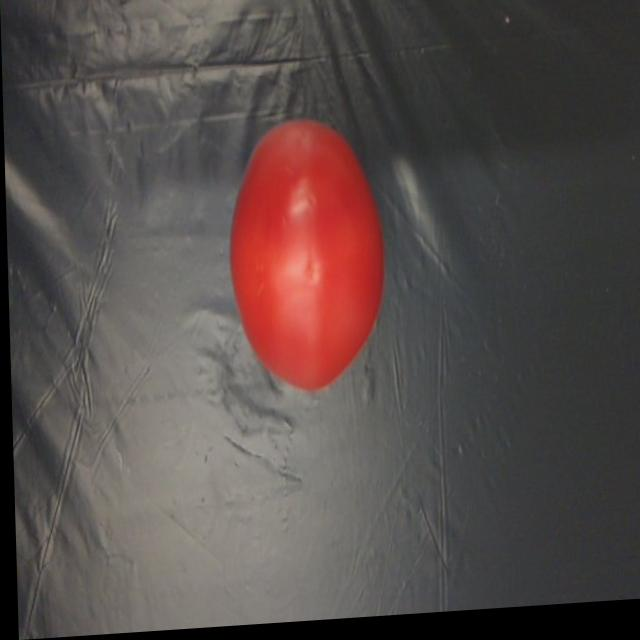kirmizi: (219, 110, 388, 415)
